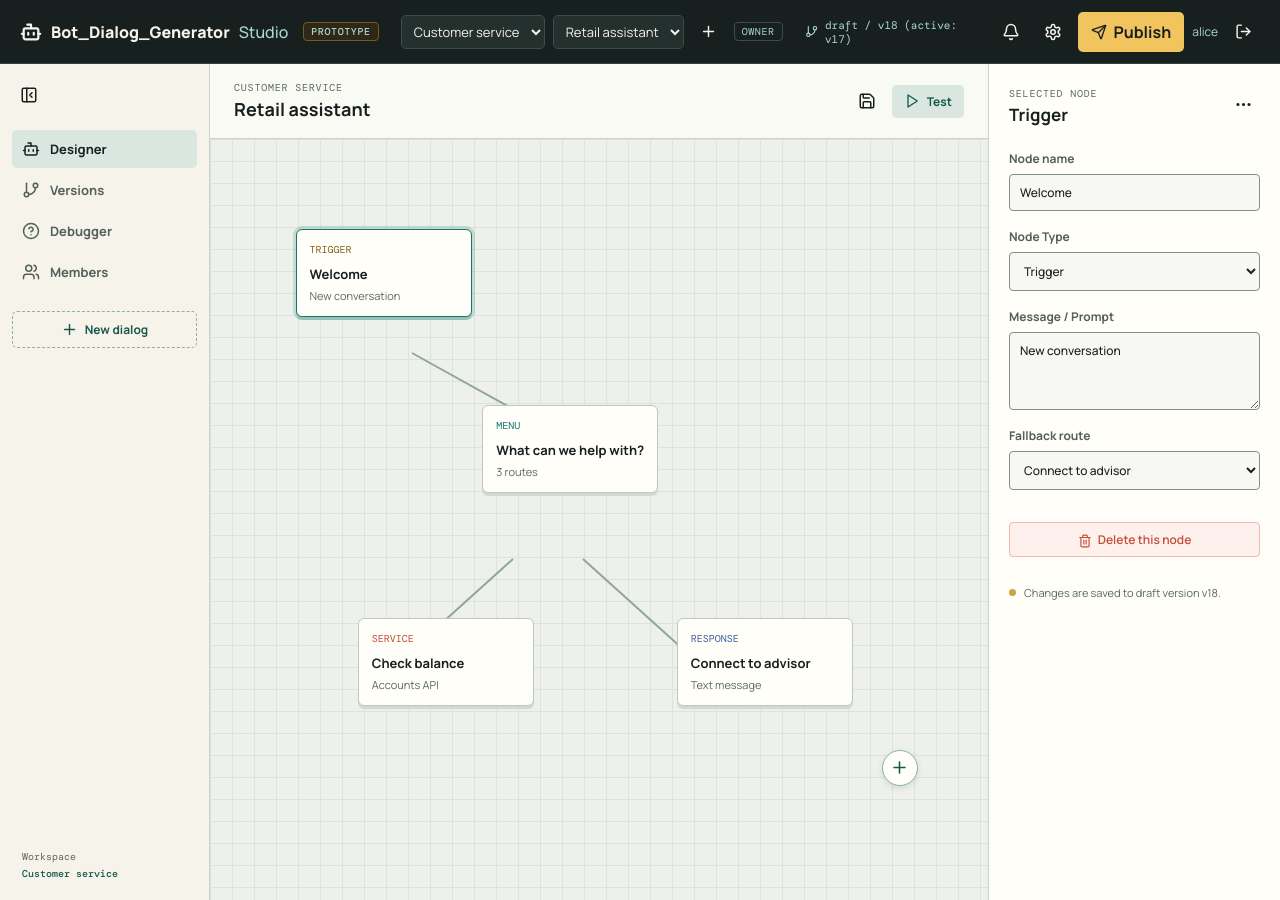
Test: Accessibility › labels the test chat's close button and announces its messages
Expected: the text "Check balance" is shown, [372,654,464,672]
Click the button "Test". click: [928, 101]
box: [892,84,964,118]
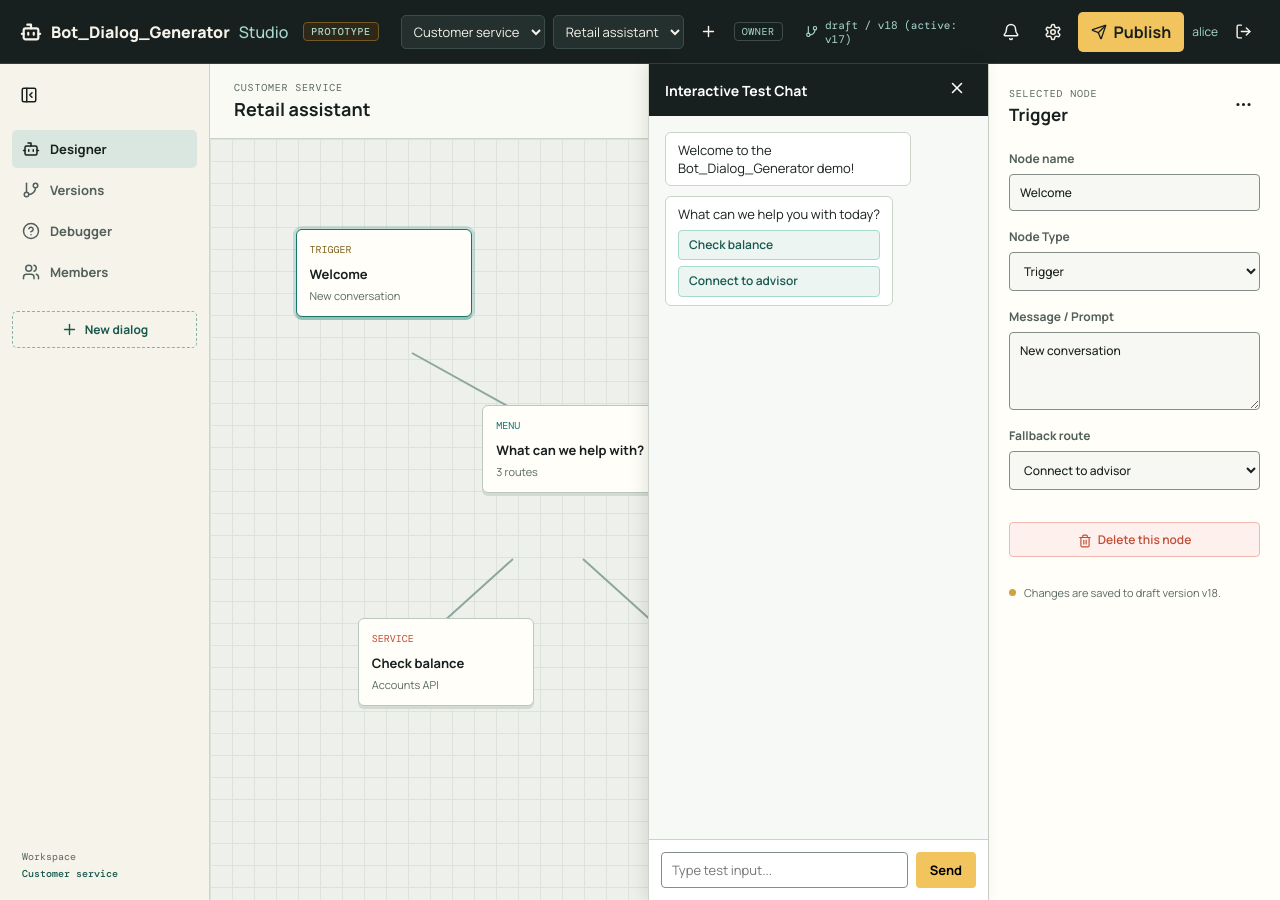
Expected: the button named "Close test chat" is shown, [942,78,972,102]
